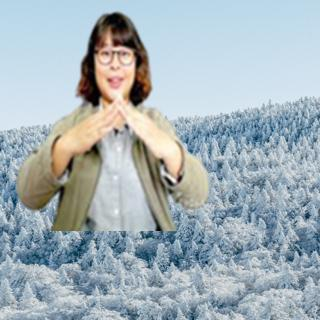HOME: (64, 92, 171, 163)
